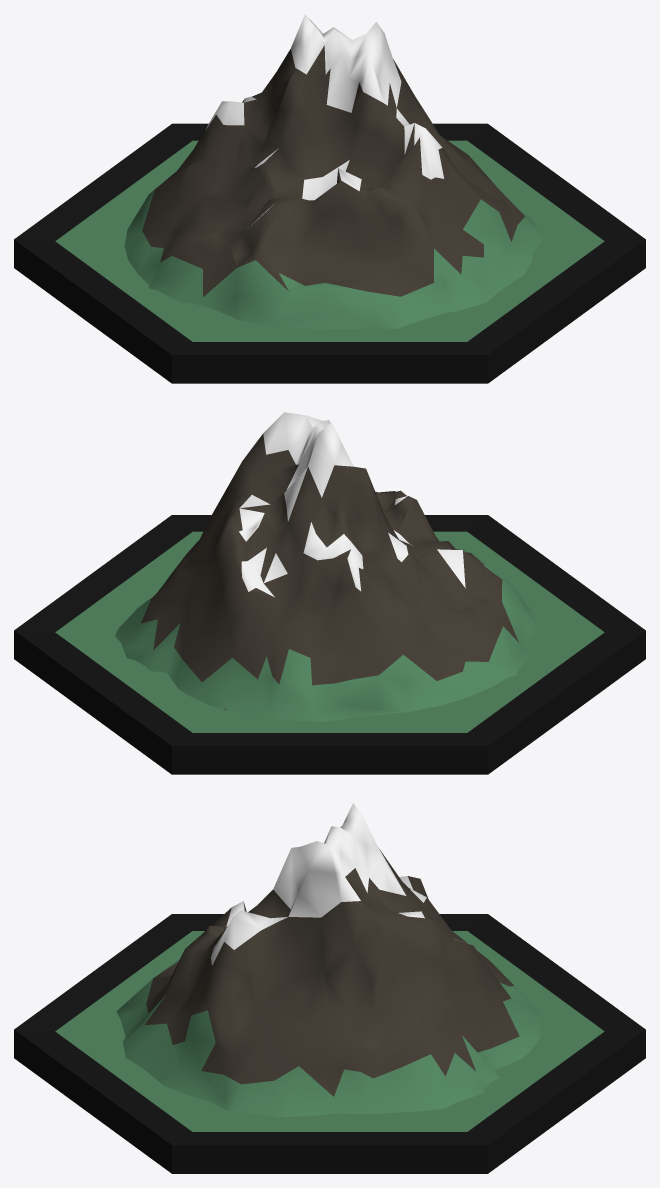
File: Tile_Mountain.fbx
3 renders of one model, top to bottom at view 1: azimuth 30°, elevation 25°; view 2: azimuth 150°, elevation 25°; view 3: azimuth 270°, elevation 25°, orthographic.
Parts seen in each view (by area): view 1: Mountain Tile; view 2: Mountain Tile; view 3: Mountain Tile.
Boxes of the visible parts, x1=… form: Mountain Tile: x1=14, y1=14, x2=645, y2=383; Mountain Tile: x1=14, y1=412, x2=645, y2=774; Mountain Tile: x1=14, y1=803, x2=645, y2=1173.
Size of the model in its own units: 199 by 99.82 by 230.
